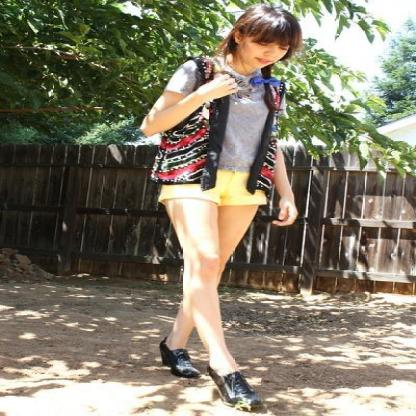jacket: (151, 58, 286, 198)
shirt: (162, 51, 266, 174)
shoe: (159, 336, 251, 390)
shorts: (158, 170, 310, 207)
